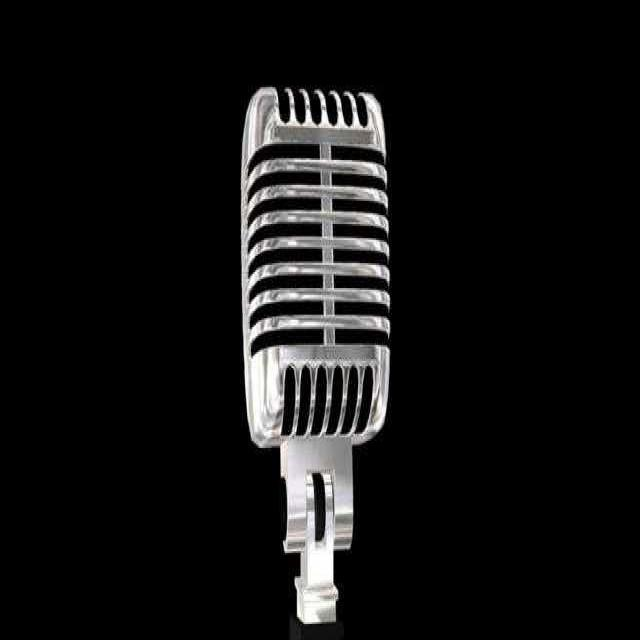microphone: (240, 76, 397, 466)
